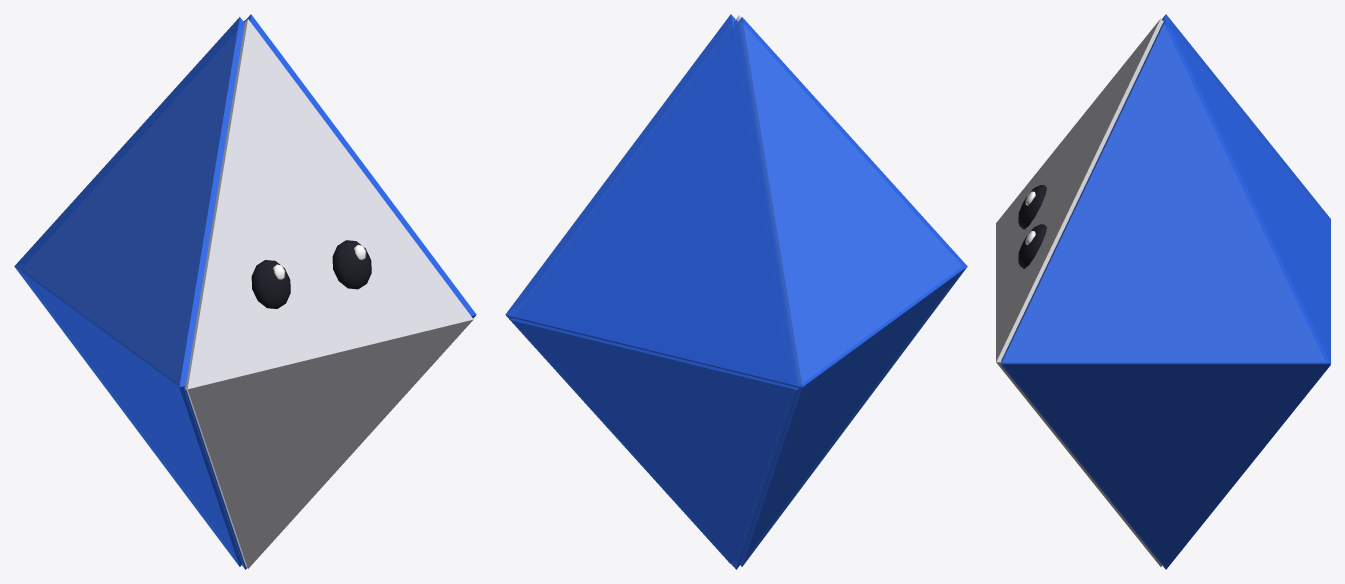
Rendered from 04-webgl-renderer.obj.
The picture shows the model from 3 angles, left to right: view 1: azimuth 30°, elevation 25°; view 2: azimuth 150°, elevation 25°; view 3: azimuth 270°, elevation 25°; orthographic projection.
Parts seen in each view (by area): view 1: gem, rgbShift, eye; view 2: rgbShift; view 3: rgbShift, gem, eye.
Boxes of the visible parts, bbox=[...] form: gem: bbox=[184, 19, 473, 568]; rgbShift: bbox=[14, 14, 476, 569]; eye: bbox=[251, 240, 371, 308]; rgbShift: bbox=[505, 14, 967, 569]; rgbShift: bbox=[1001, 14, 1330, 569]; gem: bbox=[996, 18, 1163, 566]; eye: bbox=[1018, 185, 1046, 268].
Size of what is drawn, in the model's own units: 1.32 by 2.36 by 1.29.
